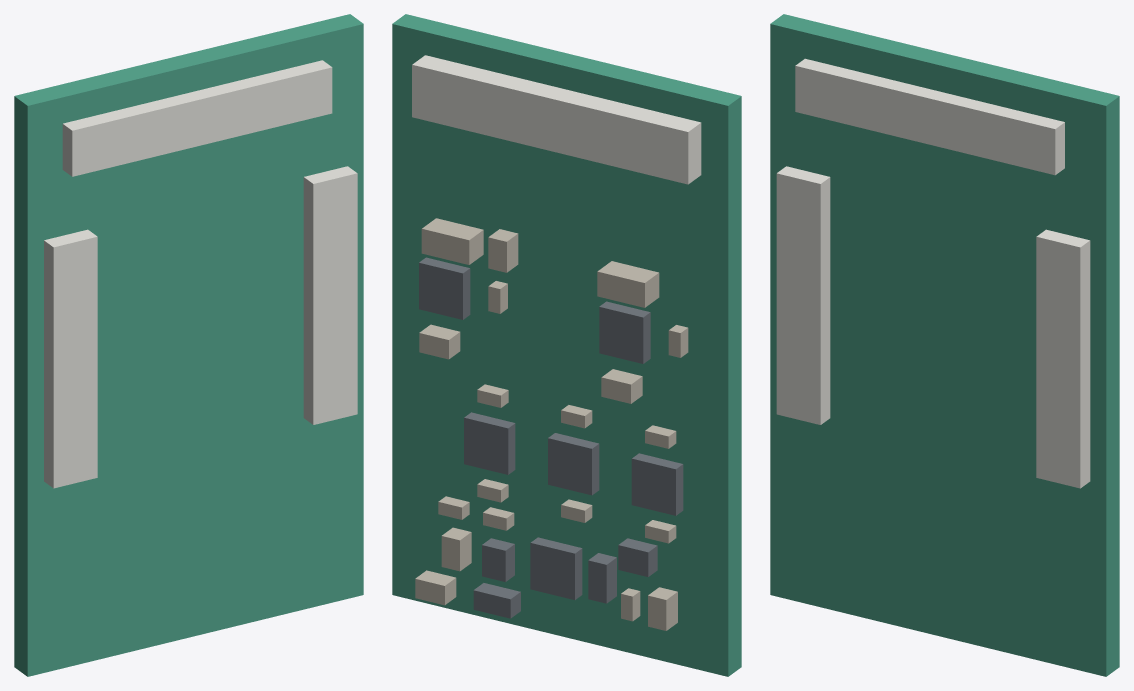
File: Option_A_V12_part_0.glb
The picture shows the model from 3 angles, left to right: view 1: azimuth 30°, elevation 25°; view 2: azimuth 150°, elevation 25°; view 3: azimuth 330°, elevation 25°; orthographic projection.
Parts seen in each view (by area): view 1: board, conn; view 2: board, ic, conn, passive; view 3: board, conn.
Part boxes in pixels (x1=…): board: x1=14, y1=14, x2=363, y2=676; conn: x1=44, y1=60, x2=357, y2=488; board: x1=392, y1=14, x2=741, y2=676; ic: x1=419, y1=257, x2=683, y2=618; conn: x1=412, y1=55, x2=701, y2=184; passive: x1=415, y1=218, x2=688, y2=630; board: x1=770, y1=14, x2=1119, y2=676; conn: x1=776, y1=58, x2=1090, y2=488.
Size of the model in its own units: 22.64 by 36.76 by 4.4.
